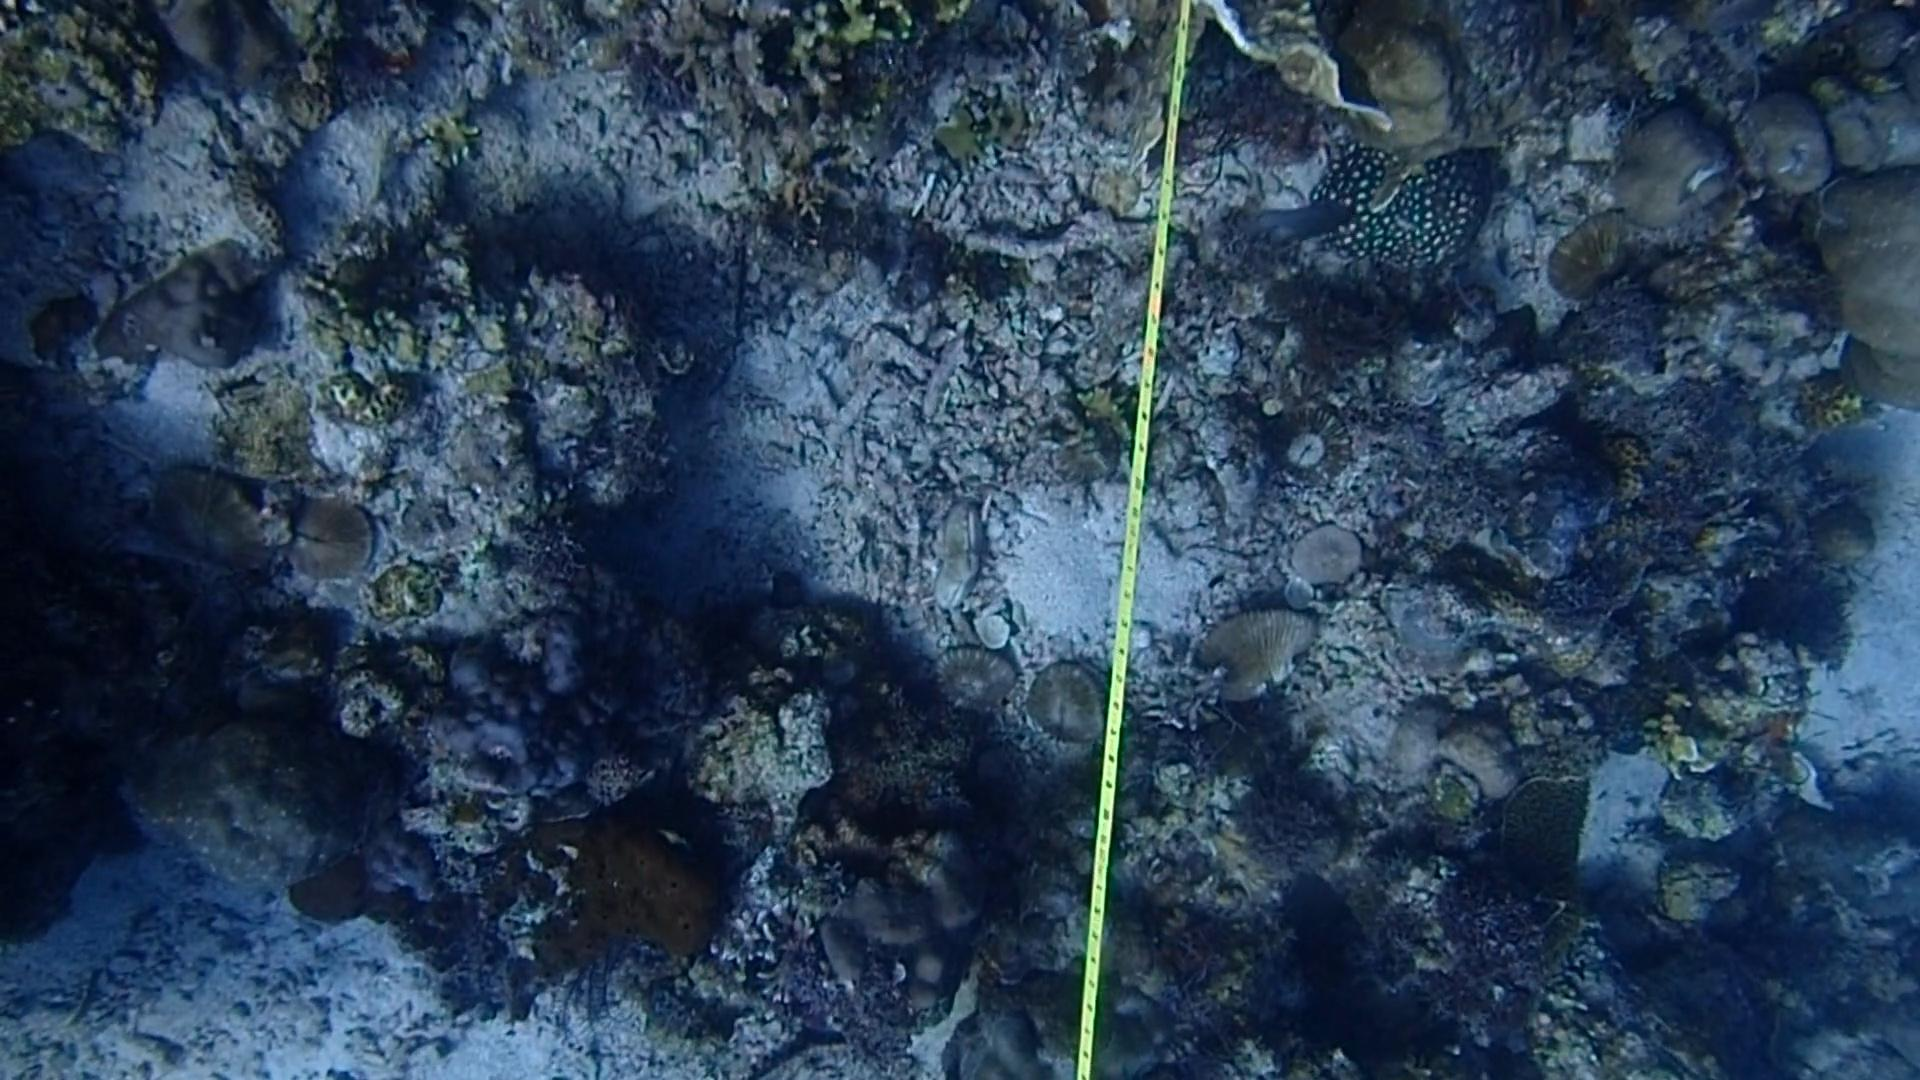Light Fish: (1241, 186, 1362, 260)
